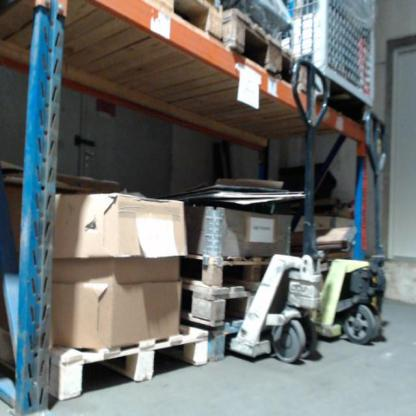pallet: (48, 326, 209, 401), (222, 7, 307, 93), (180, 246, 274, 289), (182, 283, 250, 326), (151, 0, 224, 40)
pallet_truck: (224, 50, 337, 368), (318, 104, 399, 350)
stillage: (266, 2, 382, 115)
